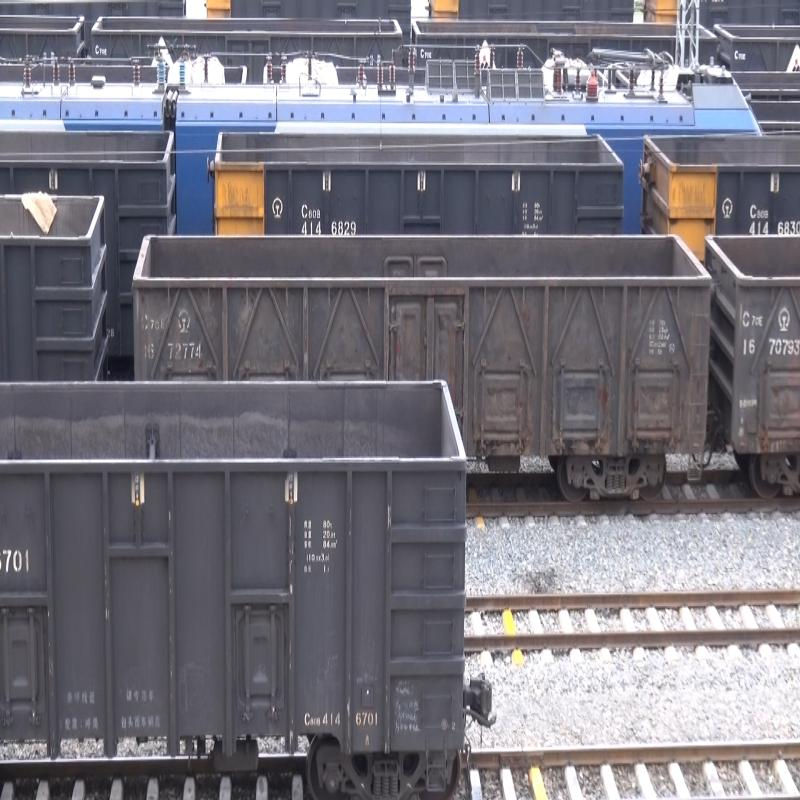train: (239, 381, 475, 800), (474, 237, 704, 512)
